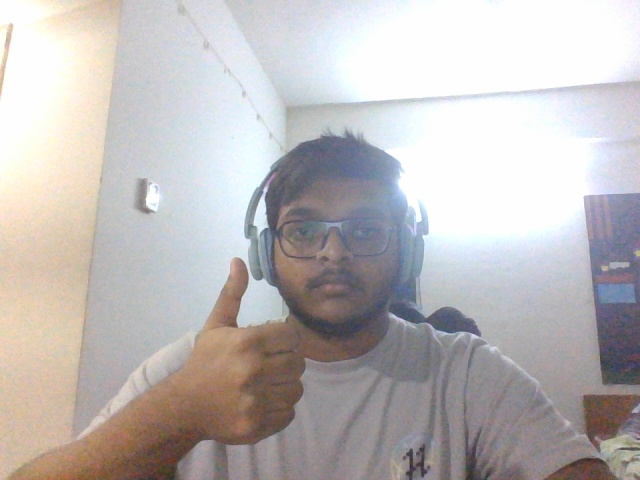ThumbsUp: (188, 259, 308, 446)
